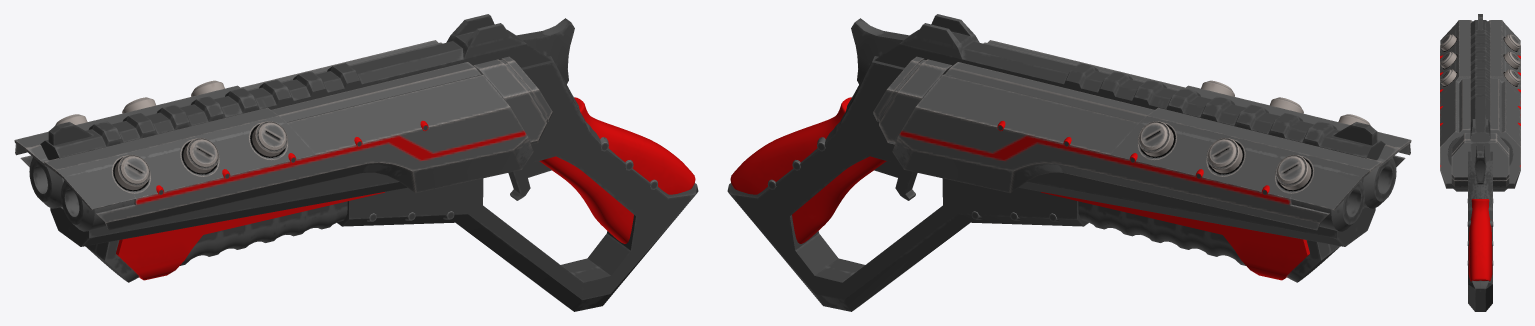
The model's file is Gun_Shotgun_Red.obj.
The picture shows the model from 3 angles, left to right: view 1: azimuth 30°, elevation 25°; view 2: azimuth 150°, elevation 25°; view 3: azimuth 270°, elevation 25°; orthographic projection. The views are drawn at different scales.
Visible parts, largest first — view 1: Gun_Shotgun_Red_Cube.015; view 2: Gun_Shotgun_Red_Cube.015; view 3: Gun_Shotgun_Red_Cube.015.
Part boxes in pixels (box(x1,y1,x2,y2)): Gun_Shotgun_Red_Cube.015: box(14, 14, 698, 311); Gun_Shotgun_Red_Cube.015: box(727, 14, 1411, 311); Gun_Shotgun_Red_Cube.015: box(1440, 14, 1520, 311).
Size of the model in its own units: 0.6284 by 0.2807 by 0.128.
